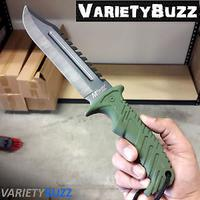knife: (16, 2, 167, 200)
